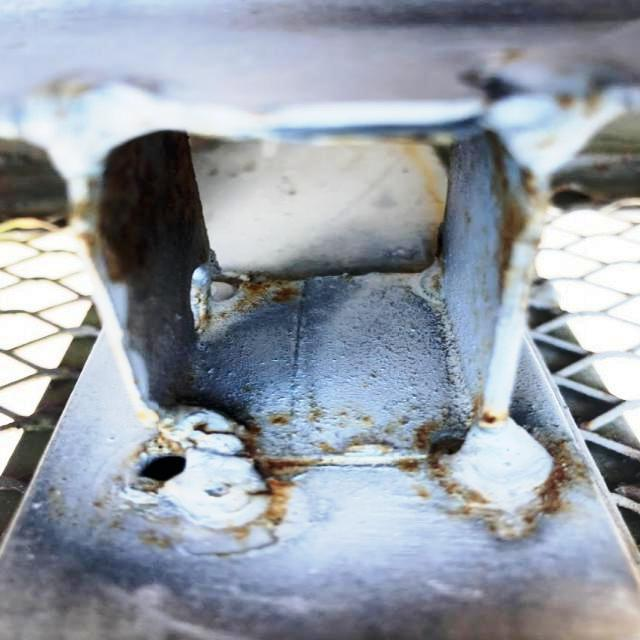Corrosion: (90, 407, 324, 569), (393, 408, 583, 546), (484, 128, 553, 312), (67, 179, 119, 292), (274, 407, 389, 455), (217, 273, 306, 317), (554, 79, 621, 122)
